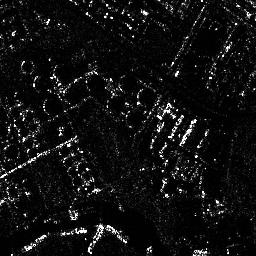ship: (20, 231, 53, 251), (87, 223, 104, 255), (106, 225, 128, 244), (59, 226, 86, 237)
